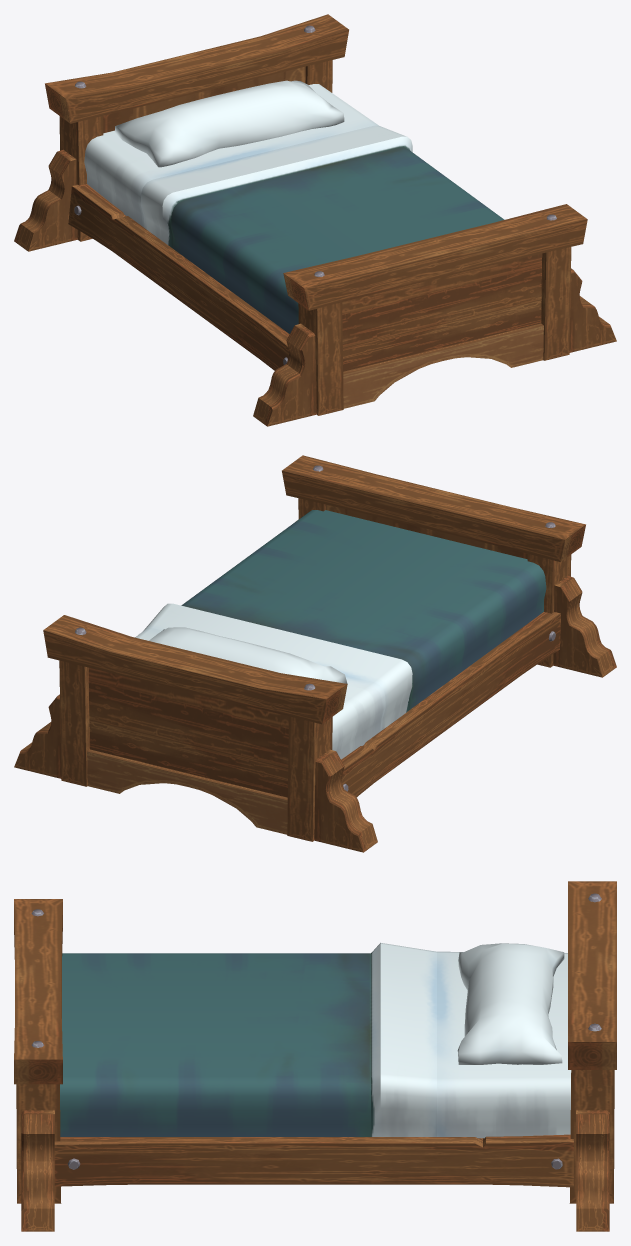
The model's file is Bed_Twin2.fbx.
3 renders of one model, top to bottom at view 1: azimuth 30°, elevation 25°; view 2: azimuth 150°, elevation 25°; view 3: azimuth 270°, elevation 25°, orthographic. The views are drawn at different scales.
Visible parts, largest first — view 1: Bed_Twin2; view 2: Bed_Twin2; view 3: Bed_Twin2.
Boxes of the visible parts, x1=… form: Bed_Twin2: x1=14, y1=14, x2=616, y2=426; Bed_Twin2: x1=14, y1=455, x2=616, y2=852; Bed_Twin2: x1=14, y1=881, x2=616, y2=1231.
Size of the model in its own units: 188 by 75.96 by 241.
